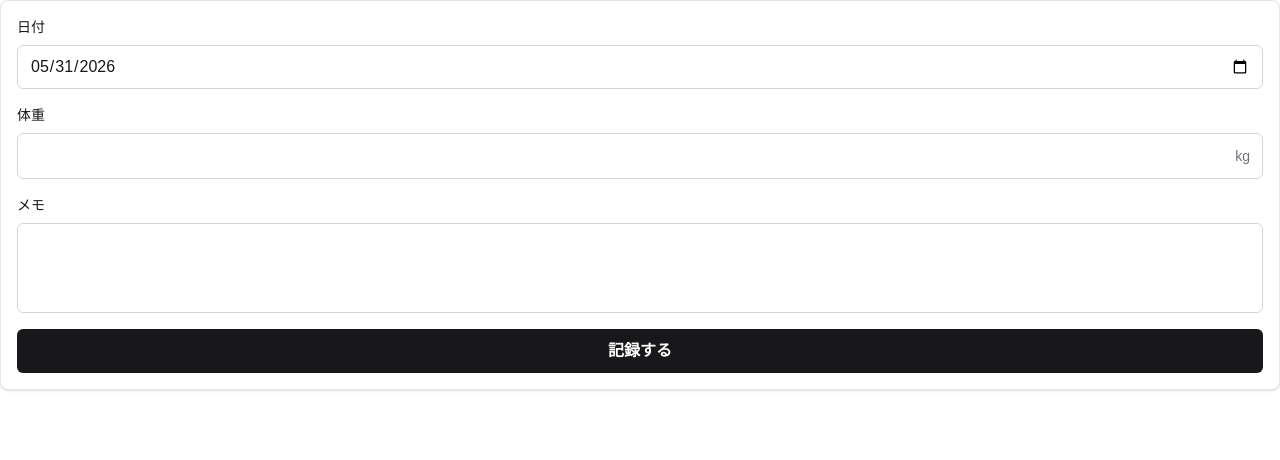
Test: WeightRecordRegistrationForm › shows a storage error when saving fails
The width and height of the screenshot is (1280, 460).
Type "2026-05-30" into the date field labelled "日付". click: (640, 67)
box: [17,45,1263,89]
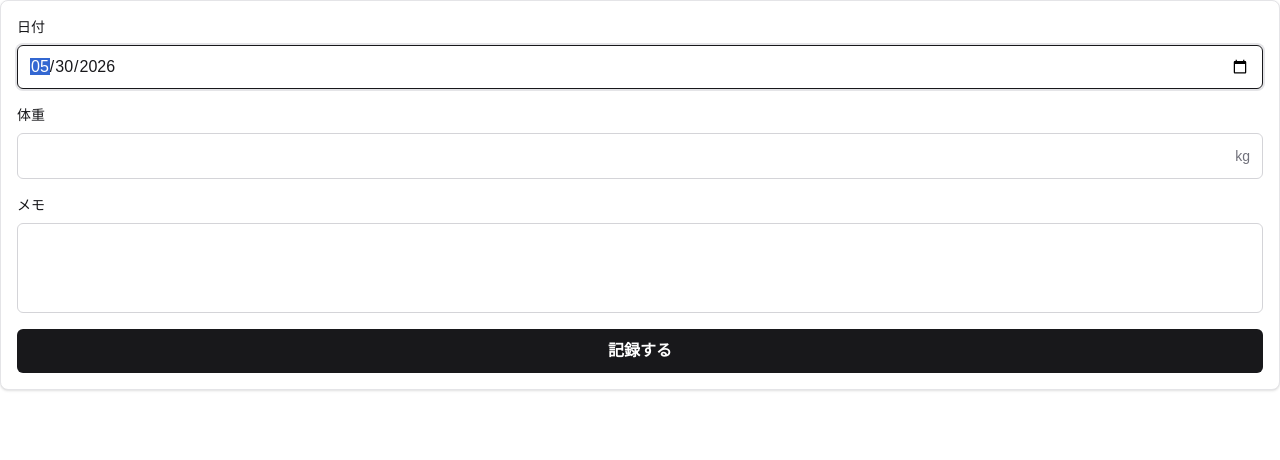
Type "80.1" into the number field labelled "体重". click: (627, 156)
box: [18,134,1235,178]
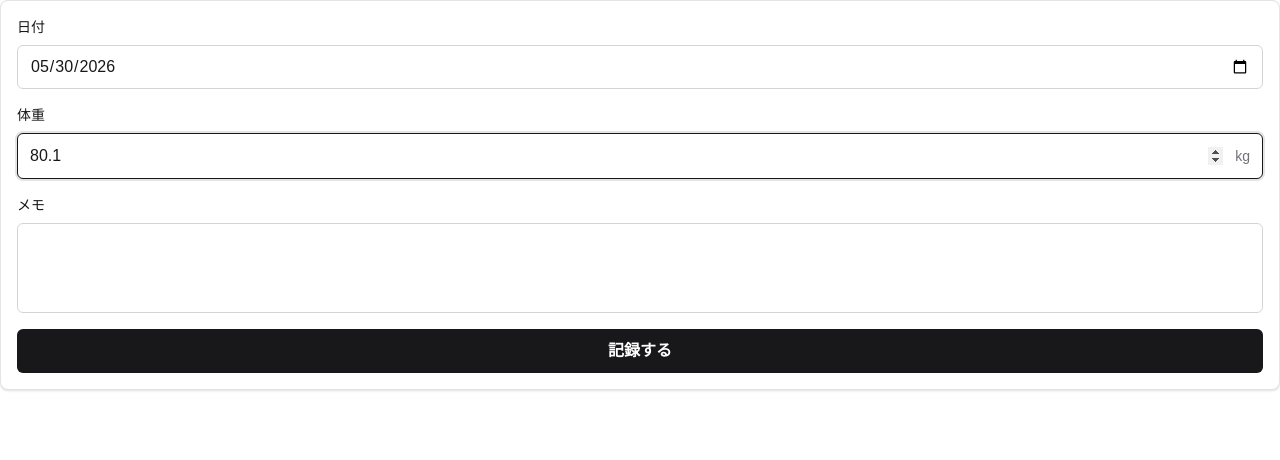
Click the button "記録する". click: (640, 351)
box: [17,329,1263,373]
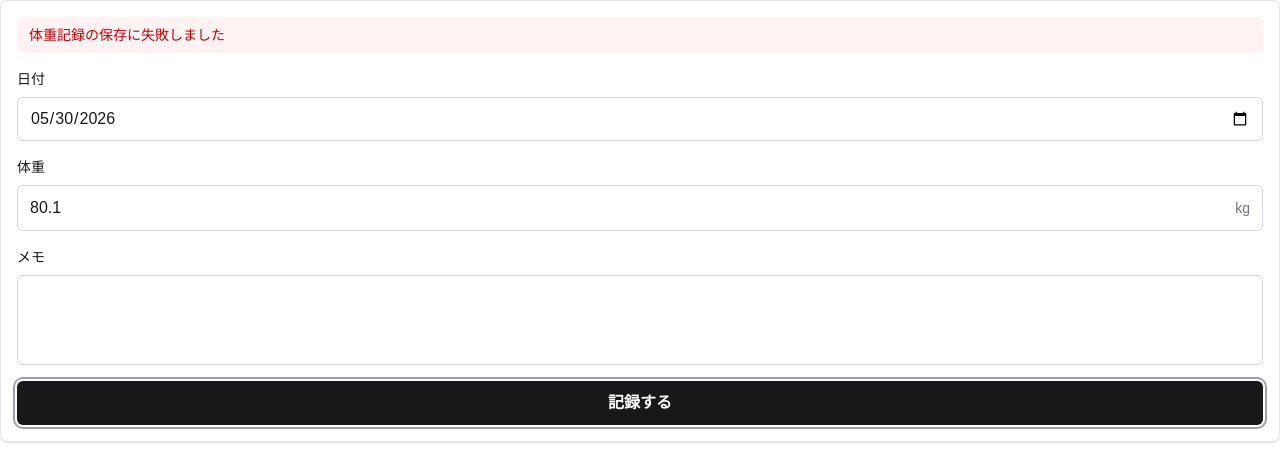
Result: the text "体重記録の保存に失敗しました" is shown at [17,17,1263,53]
